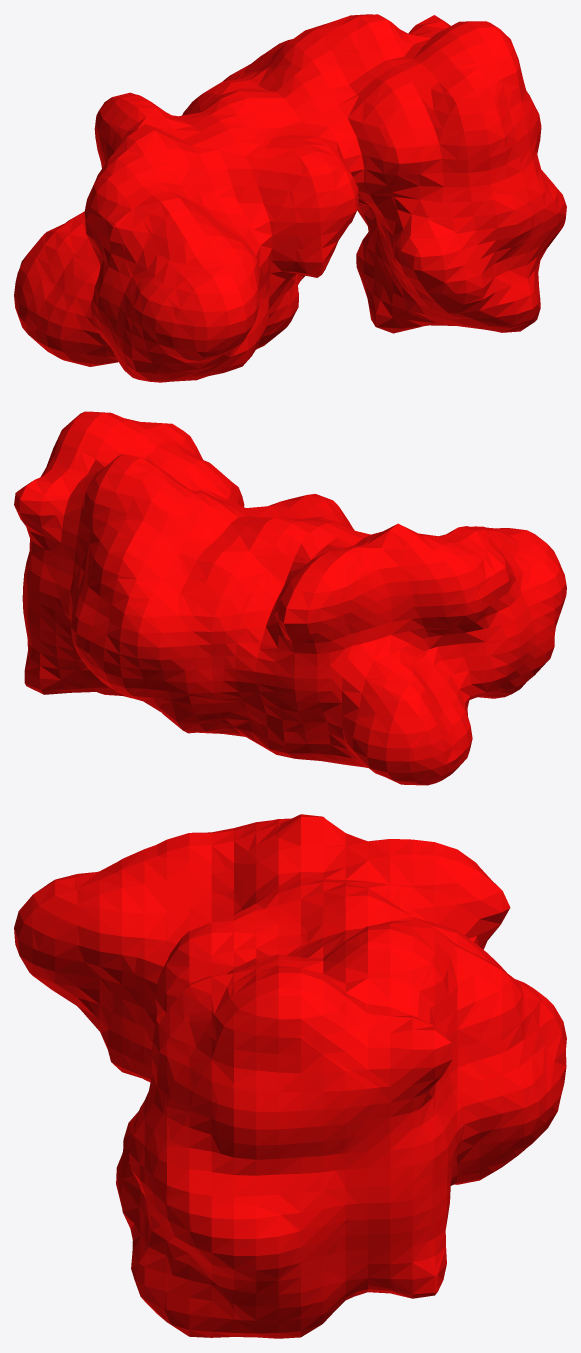
Rendered from pcnB_coarse.dae.
3 renders of one model, top to bottom at view 1: azimuth 30°, elevation 25°; view 2: azimuth 150°, elevation 25°; view 3: azimuth 270°, elevation 25°, orthographic. The views are drawn at different scales.
Visible parts, largest first — view 1: pcnB; view 2: pcnB; view 3: pcnB.
Part boxes in pixels (x1,y1,x2,y2): pcnB: (14, 14, 566, 382); pcnB: (14, 411, 566, 785); pcnB: (14, 814, 566, 1338).
Bounding box in the file's own units: 79.51 × 44.88 × 62.34.
